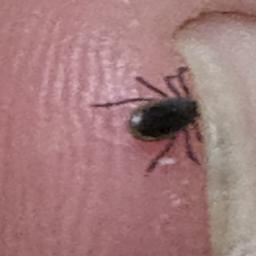Ixodes scapularis: (88, 66, 202, 174)
